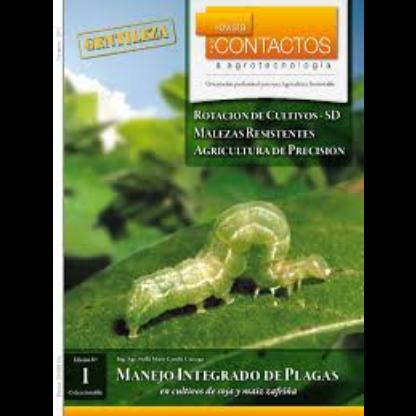oruga: (110, 194, 340, 346)
